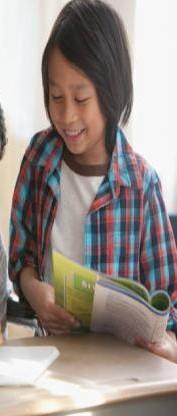cheating: (2, 1, 177, 360)
